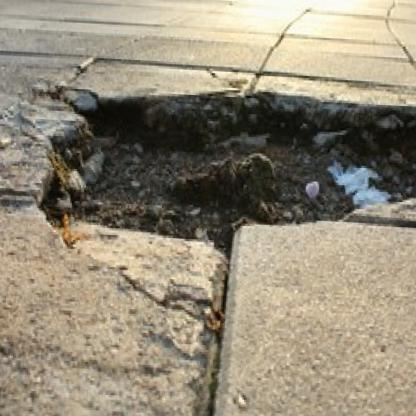pothole: (36, 85, 416, 257)
